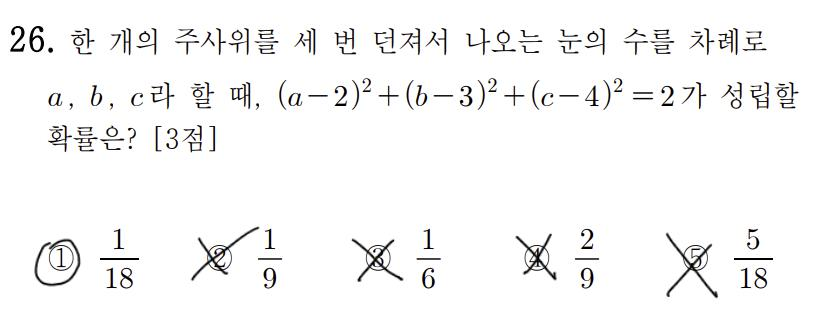1: (33, 238, 82, 289)
paper: (679, 243, 712, 276), (520, 243, 553, 276), (363, 242, 396, 275), (204, 242, 237, 275), (45, 241, 78, 274)
